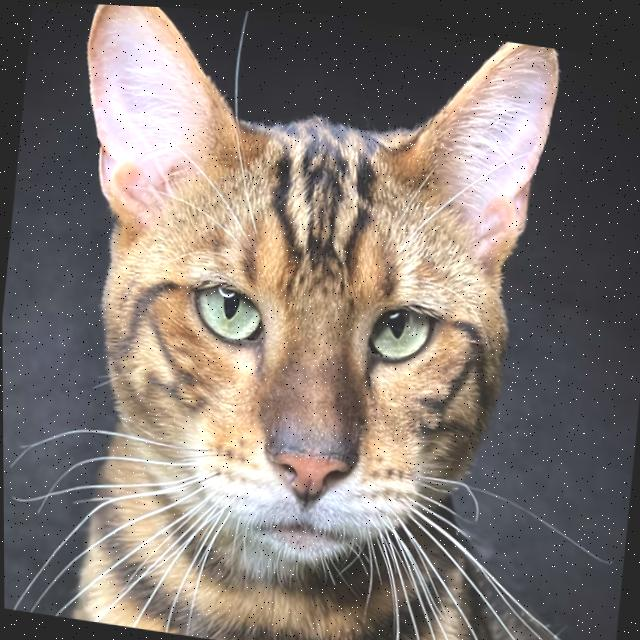Toyger: (22, 1, 640, 640)
